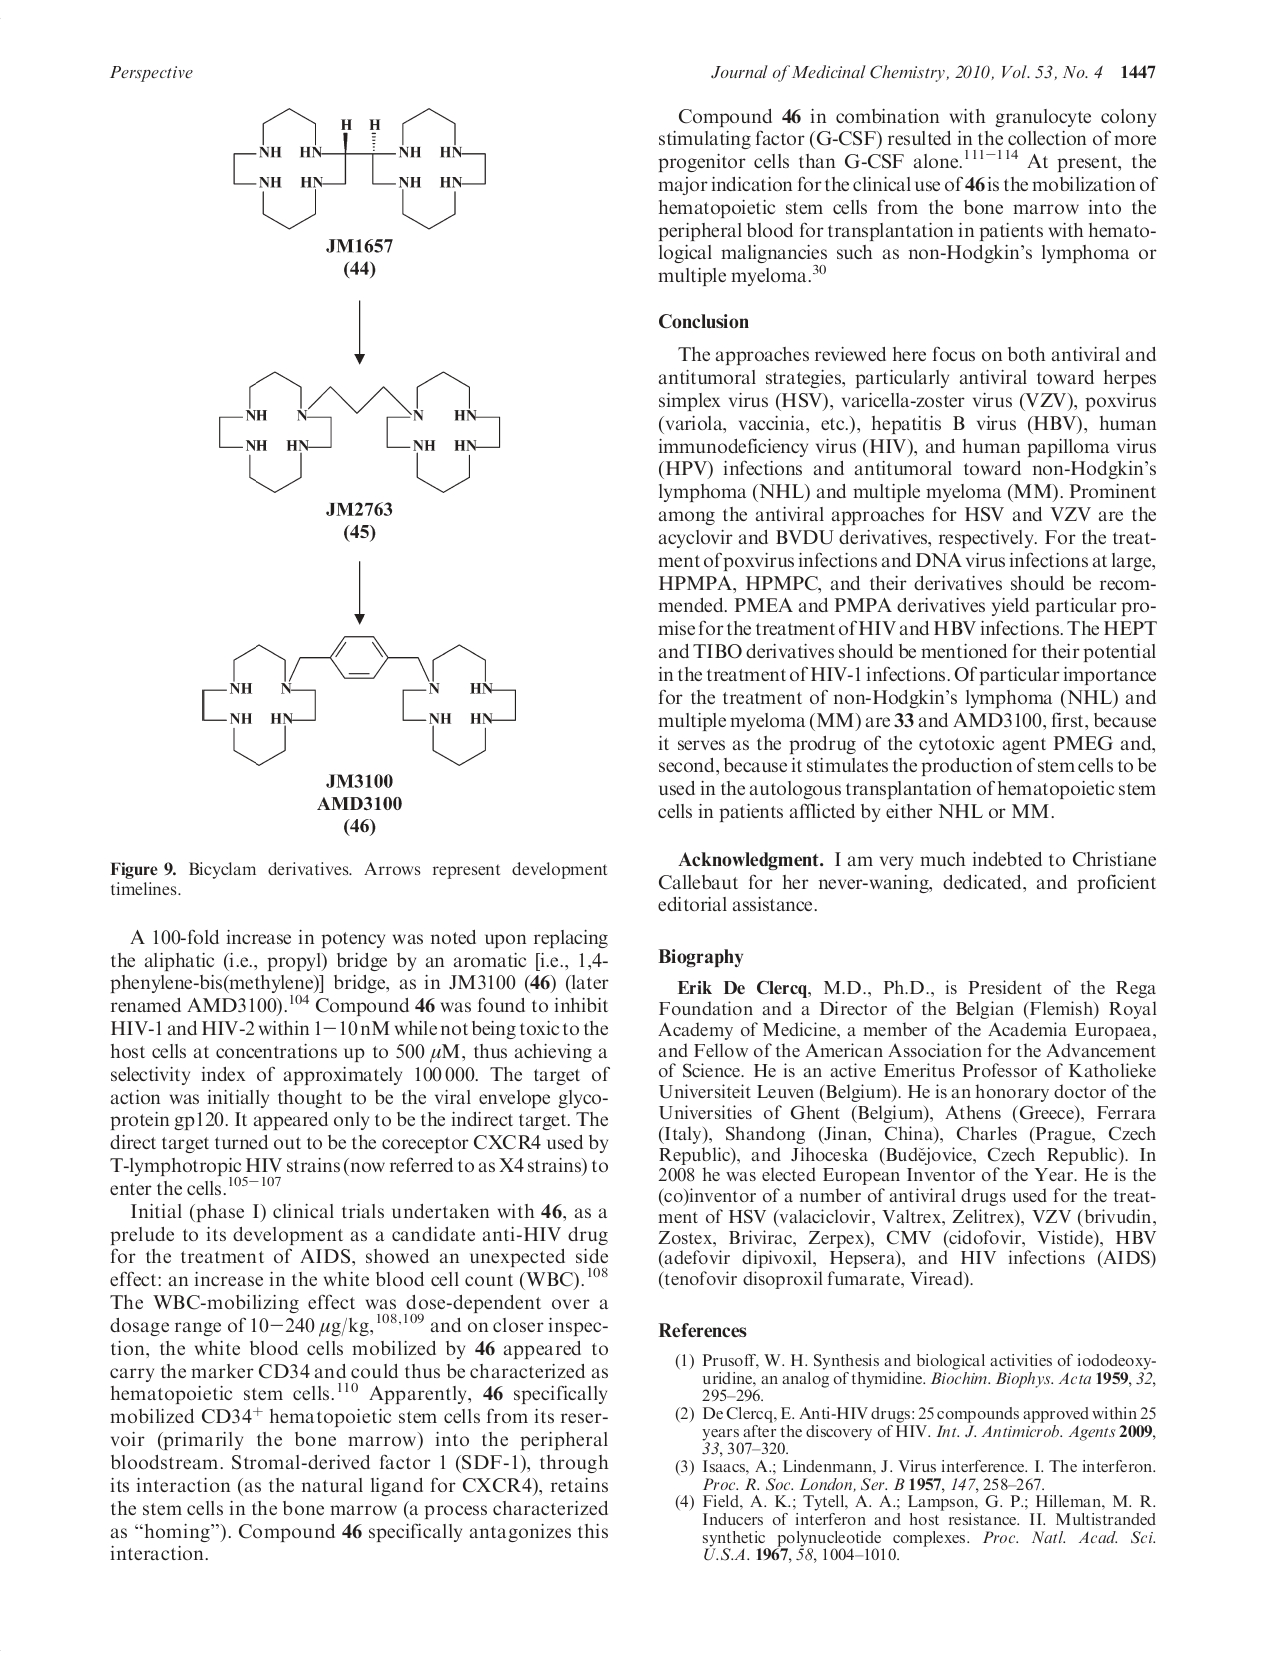exist_molecular: (199, 633, 519, 767), (215, 368, 503, 493), (230, 106, 488, 231)
